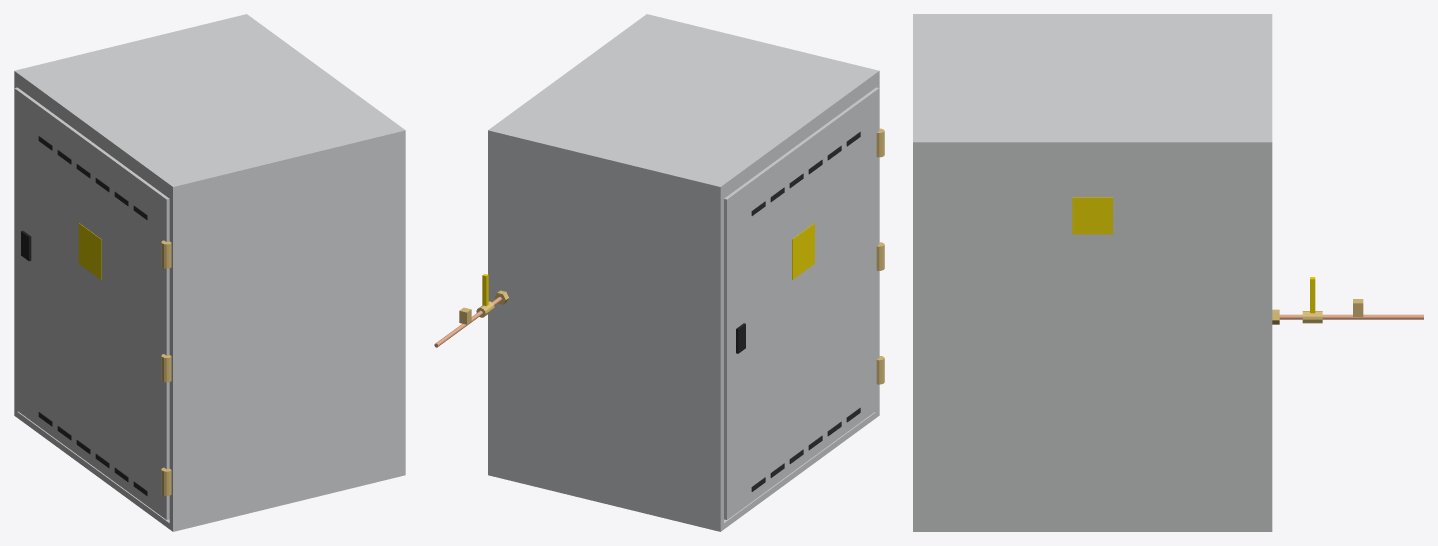
Rendered from Gasschrank.glb.
3 views of the same model, side by side, from view 1: azimuth 30°, elevation 25°; view 2: azimuth 150°, elevation 25°; view 3: azimuth 270°, elevation 25° (orthographic). The views are drawn at different scales.
Parts seen in each view (by area): view 1: Gasschrank_710x600x850_Seite_L, Gasschrank_710x600x850_Servicetuer, Gasschrank_710x600x850, Gasschrank_710x600x850_Boden, Gasschrank_710x600x850_Warnschild_Fluessiggas; view 2: Gasschrank_710x600x850_Seite_R, Gasschrank_710x600x850_Servicetuer, Gasschrank_710x600x850, Gasschrank_710x600x850_Boden, Gasschrank_710x600x850_Warnschild_Fluessiggas; view 3: Gasschrank_710x600x850_Front_Innenraum, Gasschrank_710x600x850, Gasschrank_710x600x850_Seite_R, Gasschrank_710x600x850_Seite_L, Gasschrank_710x600x850_Boden, Gasschrank_710x600x850_Pruefplakette, Gasschrank_710x600x850_Gasleitung_aussen.
Boxes of the visible parts, x1,y1,x2,y2 form: Gasschrank_710x600x850_Seite_L: [169, 146, 405, 525]; Gasschrank_710x600x850_Servicetuer: [14, 87, 169, 519]; Gasschrank_710x600x850: [14, 14, 405, 495]; Gasschrank_710x600x850_Boden: [14, 410, 405, 531]; Gasschrank_710x600x850_Warnschild_Fluessiggas: [78, 223, 101, 279]; Gasschrank_710x600x850_Seite_R: [488, 146, 723, 525]; Gasschrank_710x600x850_Servicetuer: [724, 87, 879, 519]; Gasschrank_710x600x850: [488, 14, 884, 491]; Gasschrank_710x600x850_Boden: [488, 409, 879, 531]; Gasschrank_710x600x850_Warnschild_Fluessiggas: [792, 223, 814, 279]; Gasschrank_710x600x850_Front_Innenraum: [920, 160, 1264, 524]; Gasschrank_710x600x850: [913, 14, 1272, 160]; Gasschrank_710x600x850_Seite_R: [1264, 160, 1272, 524]; Gasschrank_710x600x850_Seite_L: [913, 160, 920, 524]; Gasschrank_710x600x850_Boden: [913, 525, 1272, 531]; Gasschrank_710x600x850_Pruefplakette: [1072, 197, 1112, 234]; Gasschrank_710x600x850_Gasleitung_aussen: [1279, 314, 1423, 319].
Bounding box in the file's own units: 6.21 × 8.5 × 10.1.
